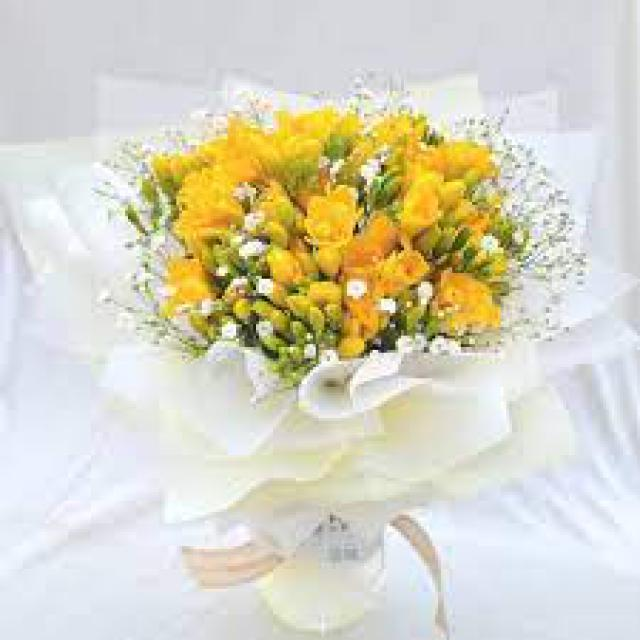freesia: (164, 173, 245, 235), (434, 265, 500, 332), (300, 185, 362, 250), (411, 140, 492, 180), (394, 170, 446, 231), (166, 254, 209, 312), (390, 247, 426, 288)
gypsophila: (505, 136, 588, 289), (94, 149, 153, 233), (124, 105, 208, 155)
